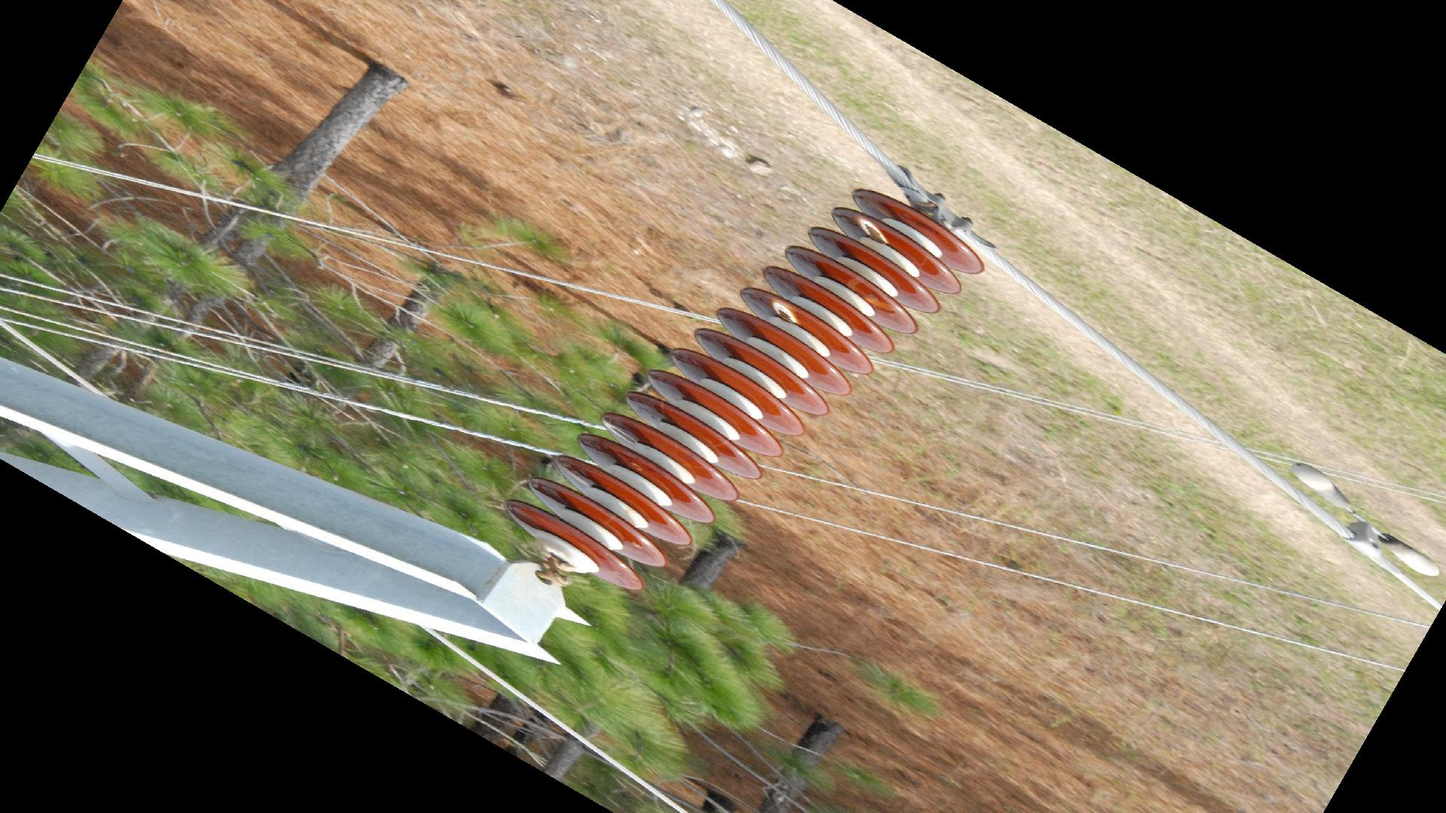insulator: (501, 180, 990, 601)
insulator_flashover: (859, 217, 889, 245), (770, 297, 799, 325), (606, 423, 639, 445)
